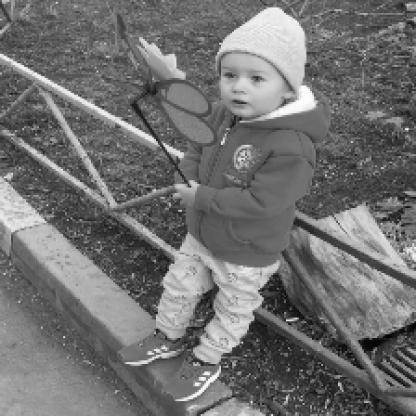child: (118, 8, 333, 406)
